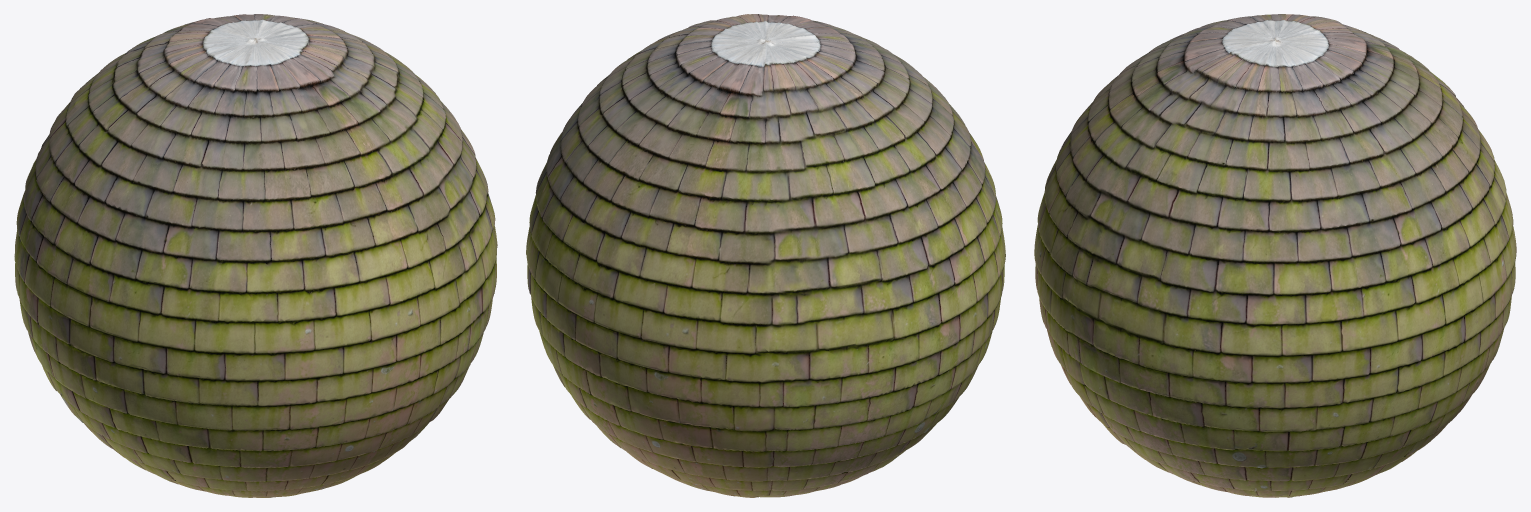
Rendered from red_slate_roof_tiles_01_2k.gltf.
3 renders of one model, left to right at view 1: azimuth 30°, elevation 25°; view 2: azimuth 150°, elevation 25°; view 3: azimuth 270°, elevation 25°, orthographic.
Visible parts, largest first — view 1: sphere_gltf; view 2: sphere_gltf; view 3: sphere_gltf.
Part boxes in pixels (x1,y1,x2,y2): sphere_gltf: (14, 14, 497, 497); sphere_gltf: (526, 14, 1005, 497); sphere_gltf: (1034, 14, 1516, 497).
Size of the model in its own units: 2.52 by 2.52 by 2.52.
Materials: 1 (1 with a texture image).
